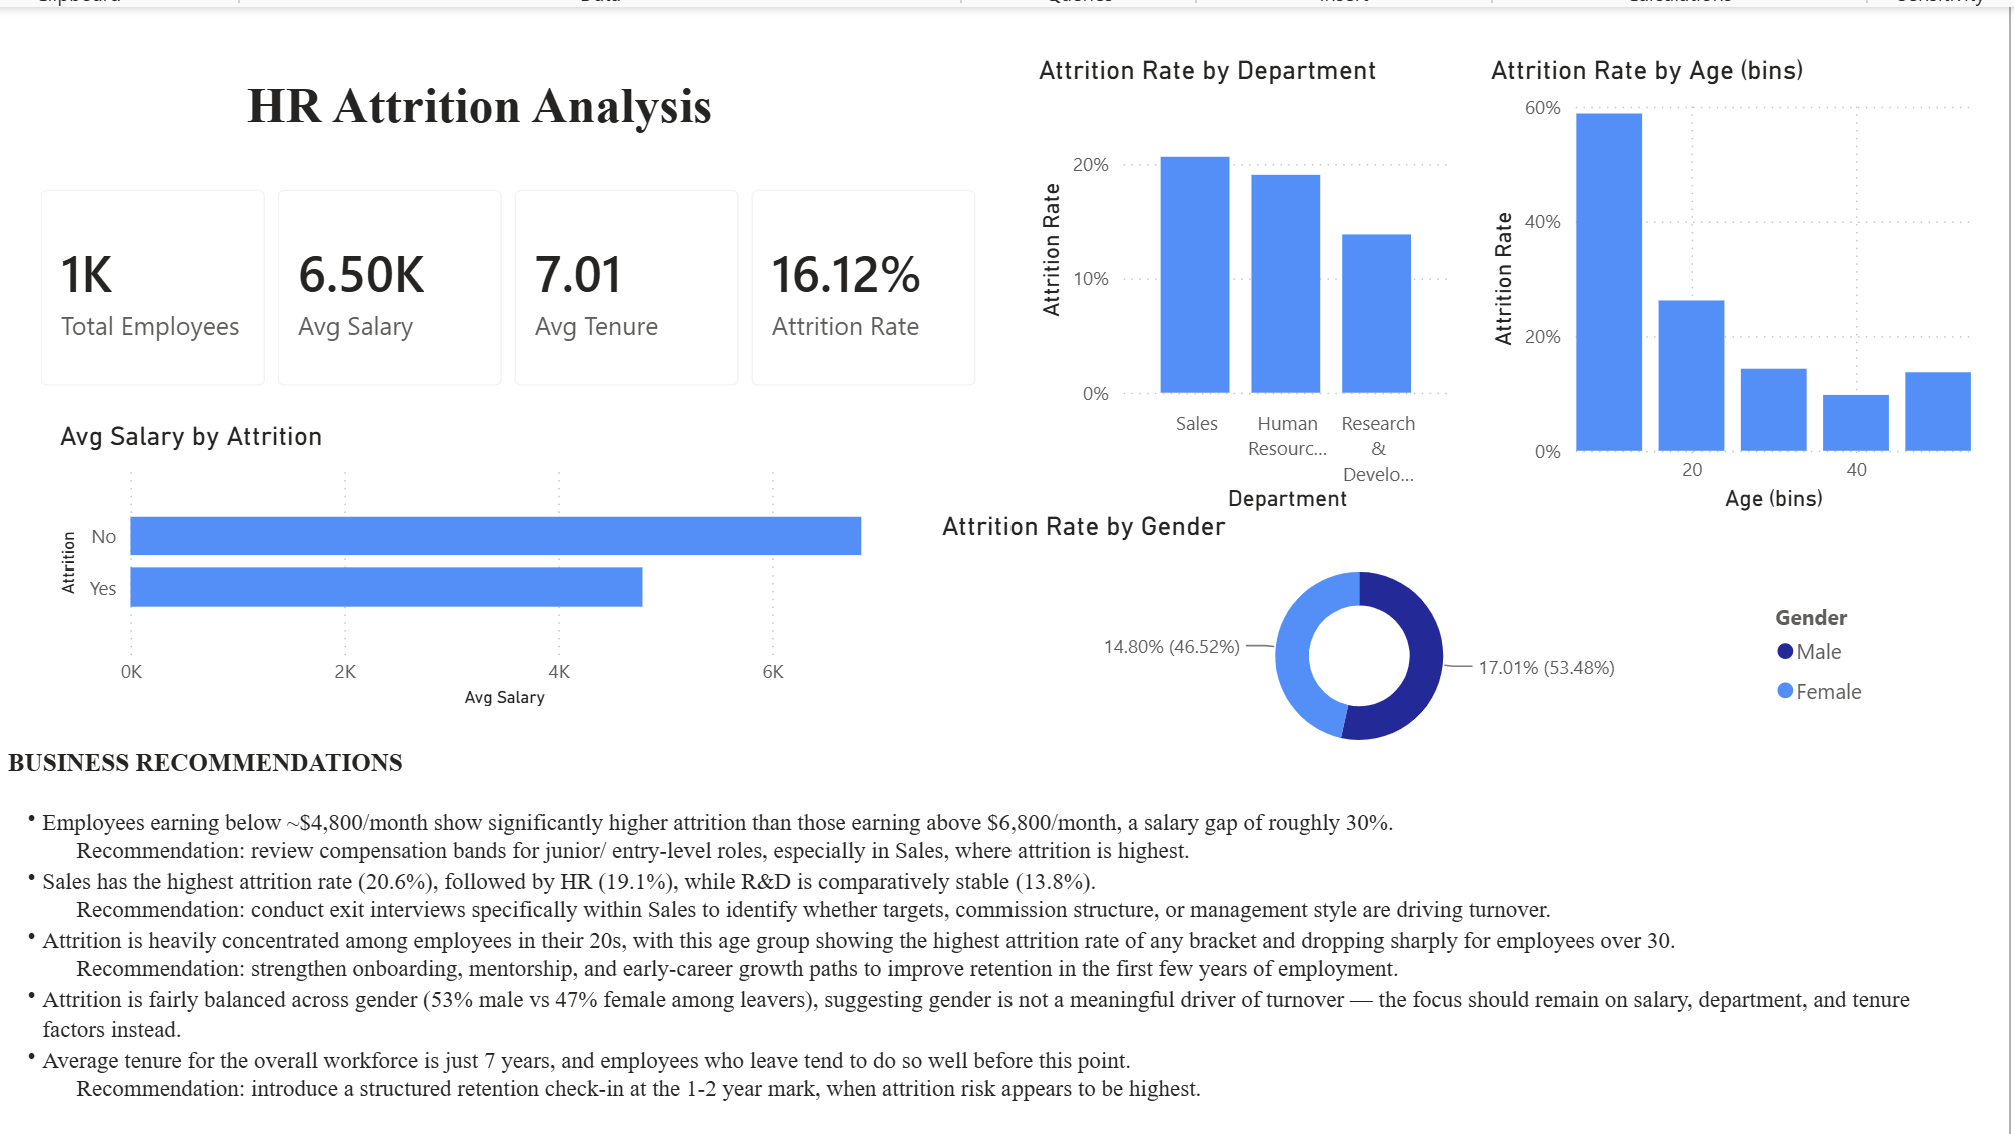

This screenshot's page, from the dashboard's own definition file:
{"tool":"powerbi","page":{"name":"Page 1","canvas":[1280,720],"ordinal":0},"visuals":[{"type":"cardVisual","fields":{"Data":["WA_Fn-UseC_-HR-Employee-Attrition.Total Employees","WA_Fn-UseC_-HR-Employee-Attrition.Avg Salary","WA_Fn-UseC_-HR-Employee-Attrition.Avg Tenure","WA_Fn-UseC_-HR-Employee-Attrition.Attrition Rate"]},"box":[8.9,99.4,631.1,159.4],"z":0},{"type":"clusteredColumnChart","fields":{"Category":["WA_Fn-UseC_-HR-Employee-Attrition.Department"],"Y":["WA_Fn-UseC_-HR-Employee-Attrition.Attrition Rate"]},"box":[656.6,30.6,272.8,295.8],"z":1000},{"type":"columnChart","fields":{"Category":["WA_Fn-UseC_-HR-Employee-Attrition.Age (bins)"],"Y":["WA_Fn-UseC_-HR-Employee-Attrition.Attrition Rate"]},"box":[944.7,30.6,316.2,295.8],"z":2000},{"type":"donutChart","fields":{"Category":["WA_Fn-UseC_-HR-Employee-Attrition.Gender"],"Y":["WA_Fn-UseC_-HR-Employee-Attrition.Attrition Rate"]},"box":[595.4,321.3,606.9,164.5],"z":3000},{"type":"barChart","fields":{"Category":["WA_Fn-UseC_-HR-Employee-Attrition.Attrition"],"Y":["WA_Fn-UseC_-HR-Employee-Attrition.Avg Salary"]},"box":[33.1,263.9,539.3,186.1],"z":4000},{"type":"textbox","box":[0,466.6,1252,253.7],"z":5000},{"type":"textbox","box":[24.2,39.5,571.2,61.2],"z":5001}]}

Visuals, with their boxes on the page's 1280x720 design canvas (x1, y1, x2, y2). These are canvas units, not pixel positions in the 2014x1134 screenshot, which may show the page scaled, cropped or inside an application window:
cardVisual - WA_Fn-UseC_-HR-Employee-Attrition.Total Employees x WA_Fn-UseC_-HR-Employee-Attrition.Avg Salary: 9, 99, 640, 259
clusteredColumnChart - WA_Fn-UseC_-HR-Employee-Attrition.Department x WA_Fn-UseC_-HR-Employee-Attrition.Attrition Rate: 657, 31, 929, 326
columnChart - WA_Fn-UseC_-HR-Employee-Attrition.Age (bins) x WA_Fn-UseC_-HR-Employee-Attrition.Attrition Rate: 945, 31, 1261, 326
donutChart - WA_Fn-UseC_-HR-Employee-Attrition.Gender x WA_Fn-UseC_-HR-Employee-Attrition.Attrition Rate: 595, 321, 1202, 486
barChart - WA_Fn-UseC_-HR-Employee-Attrition.Attrition x WA_Fn-UseC_-HR-Employee-Attrition.Avg Salary: 33, 264, 572, 450
textbox: 0, 467, 1252, 720
textbox: 24, 40, 595, 101
